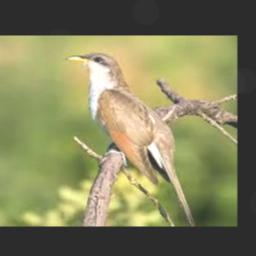Cuckoo: (65, 52, 196, 225)
